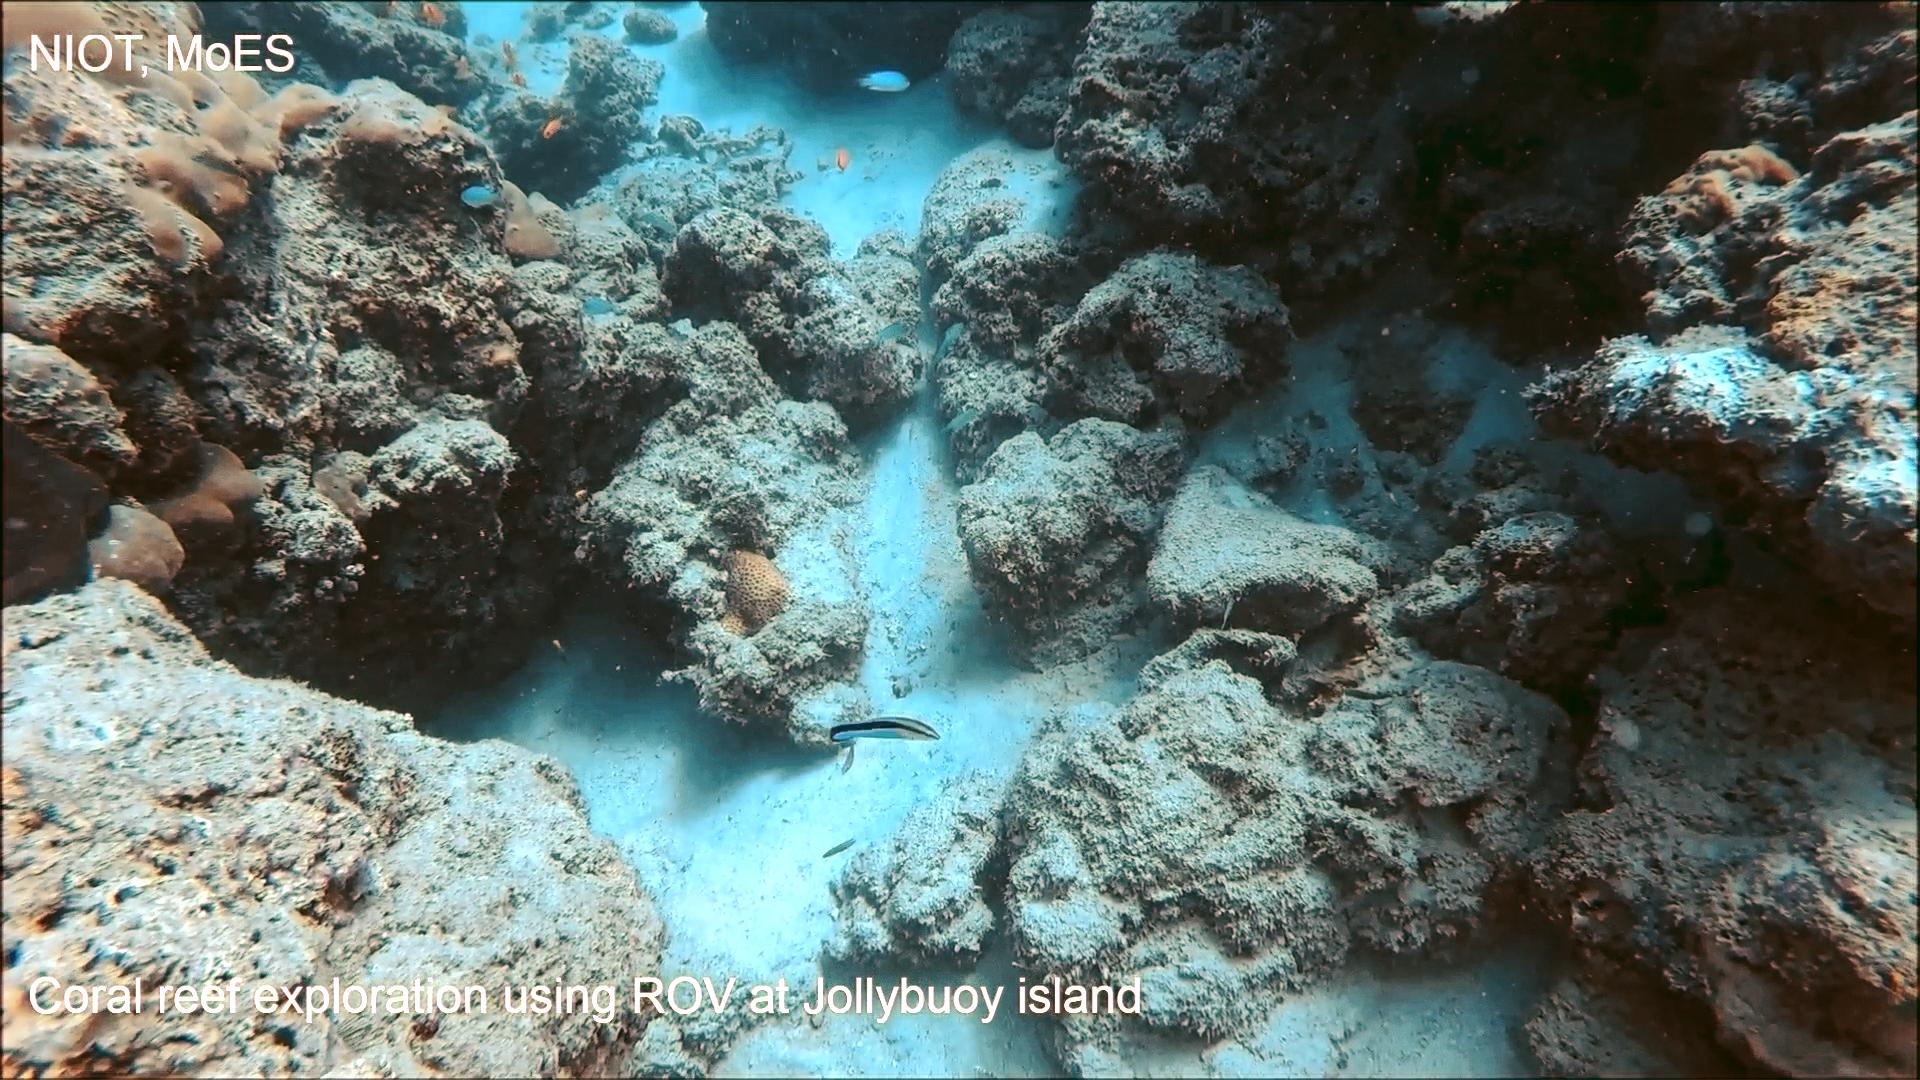Porites-Porites pukoensis: (0, 0, 351, 282)
